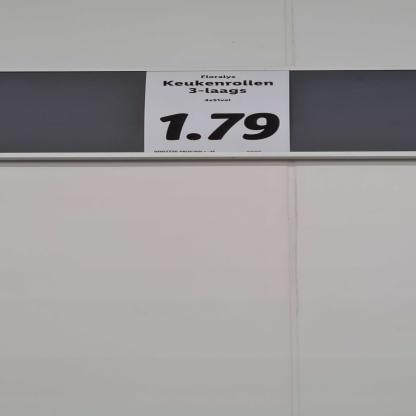prtg: (145, 72, 291, 153)
